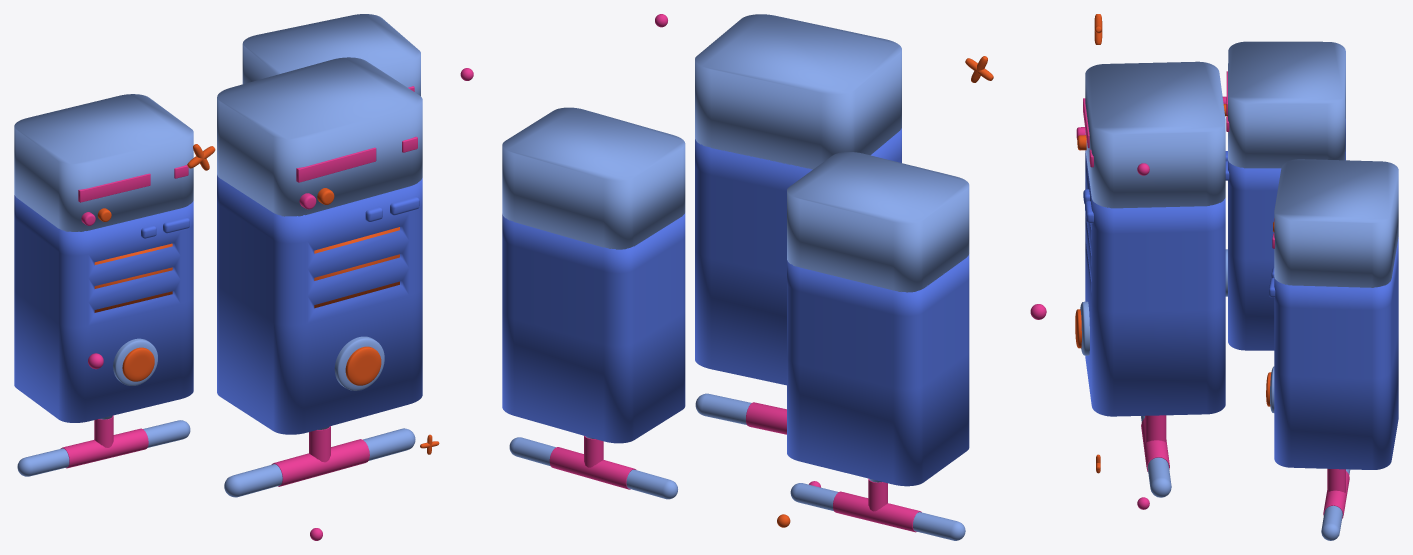
The model's file is server-3d-animated-icon-436615778910.glb.
3 views of the same model, side by side, from view 1: azimuth 30°, elevation 25°; view 2: azimuth 150°, elevation 25°; view 3: azimuth 270°, elevation 25° (orthographic). The views are drawn at different scales.
Visible parts, largest first — view 1: data.010, data.024, data.038, data.003, data.005, data.017, data.019; view 2: data.038, data.024, data.010, data.017, data.031, data.019, data.032, data.005, data.003; view 3: data.010, data.038, data.024, data.003, data.031, data.005, data.032.
Part boxes in pixels (box(x1,y1,x2,y2)): data.010: box(217, 57, 422, 434); data.024: box(14, 94, 193, 422); data.038: box(242, 14, 420, 95); data.003: box(271, 426, 369, 486); data.005: box(224, 428, 415, 497); data.017: box(60, 415, 148, 468); data.019: box(17, 415, 190, 476); data.038: box(502, 107, 685, 443); data.024: box(787, 152, 969, 486); data.010: box(695, 14, 901, 385); data.017: box(833, 478, 921, 532); data.031: box(549, 436, 636, 489); data.019: box(790, 478, 965, 540); data.032: box(509, 436, 677, 499); data.005: box(695, 393, 751, 424); data.003: box(746, 402, 786, 434); data.010: box(1075, 61, 1225, 416); data.038: box(1266, 159, 1398, 469); data.024: box(1222, 41, 1345, 350); data.003: box(1141, 415, 1169, 471); data.031: box(1323, 469, 1349, 518); data.005: box(1141, 416, 1171, 497); data.032: box(1321, 469, 1350, 540).
Size of the model in its own units: 5.12 by 5.12 by 3.5.
